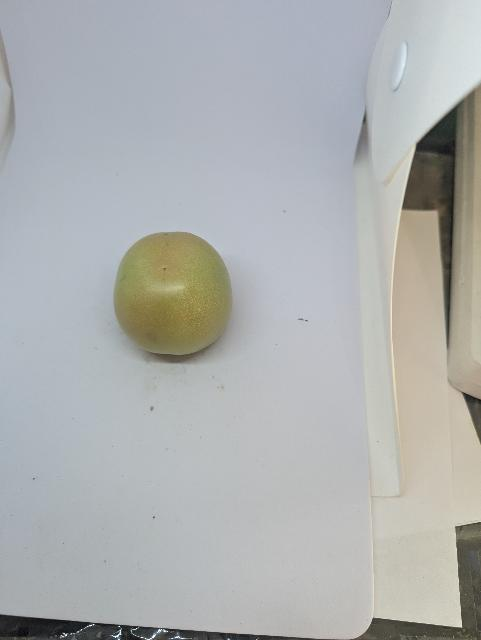breaker: (113, 229, 234, 359)
